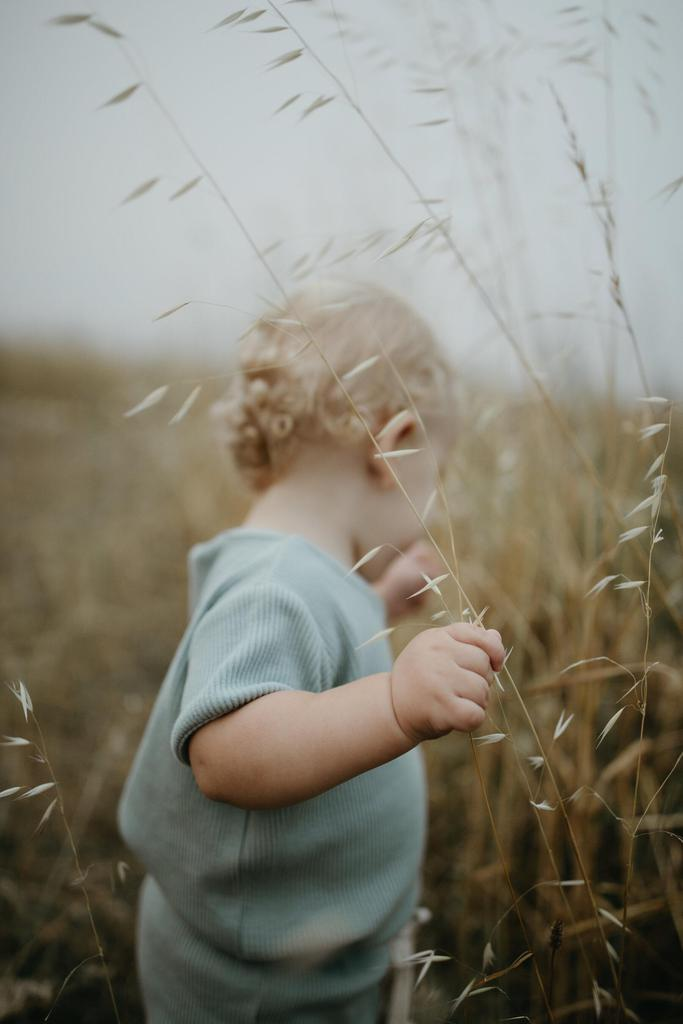child: (94, 258, 545, 1024)
